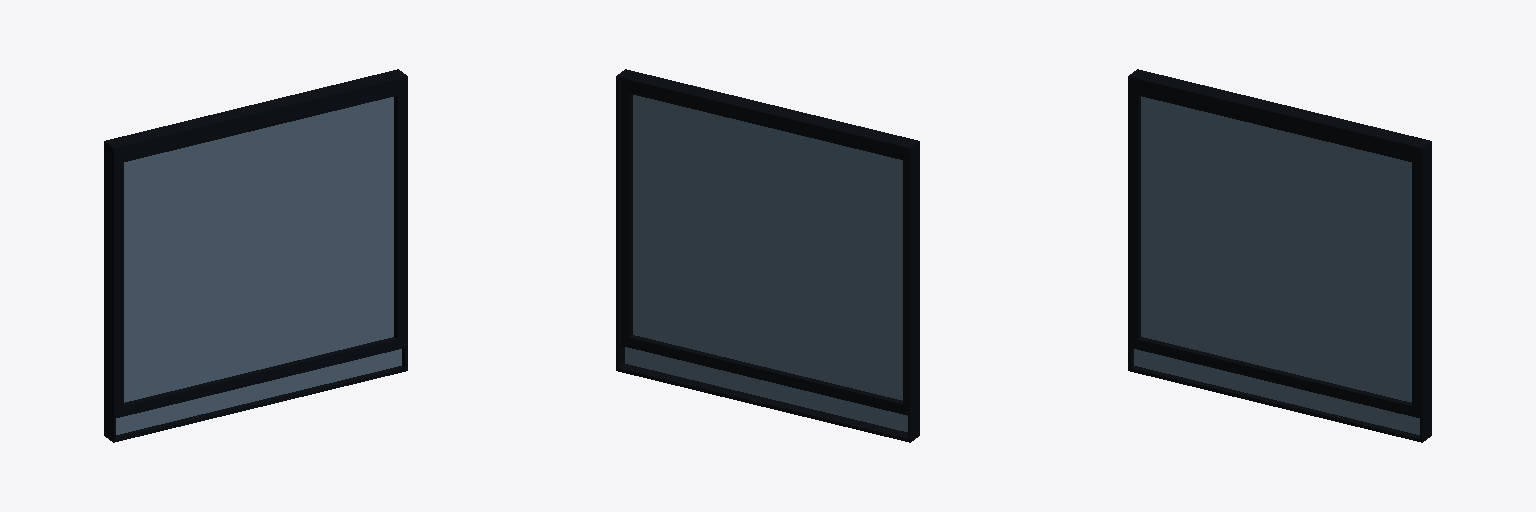
The model's file is chuangh11.obj.
The picture shows the model from 3 angles: view 1: azimuth 30°, elevation 25°; view 2: azimuth 150°, elevation 25°; view 3: azimuth 330°, elevation 25°; orthographic projection.
Parts seen in each view (by area): view 1: Rectangle110, Rectangle109, Rectangle111; view 2: Rectangle110, Rectangle111, Rectangle109; view 3: Rectangle110, Rectangle109, Rectangle111.
Boxes of the visible parts, <box> form: Rectangle110: <box>116,97,401,434</box>; Rectangle109: <box>116,81,404,417</box>; Rectangle111: <box>104,69,407,442</box>; Rectangle110: <box>625,95,907,431</box>; Rectangle111: <box>616,69,919,442</box>; Rectangle109: <box>621,81,907,415</box>; Rectangle110: <box>1134,96,1419,434</box>; Rectangle109: <box>1131,81,1419,417</box>; Rectangle111: <box>1128,69,1431,442</box>.
Bounding box in the file's own units: 12 × 11.45 × 0.7.